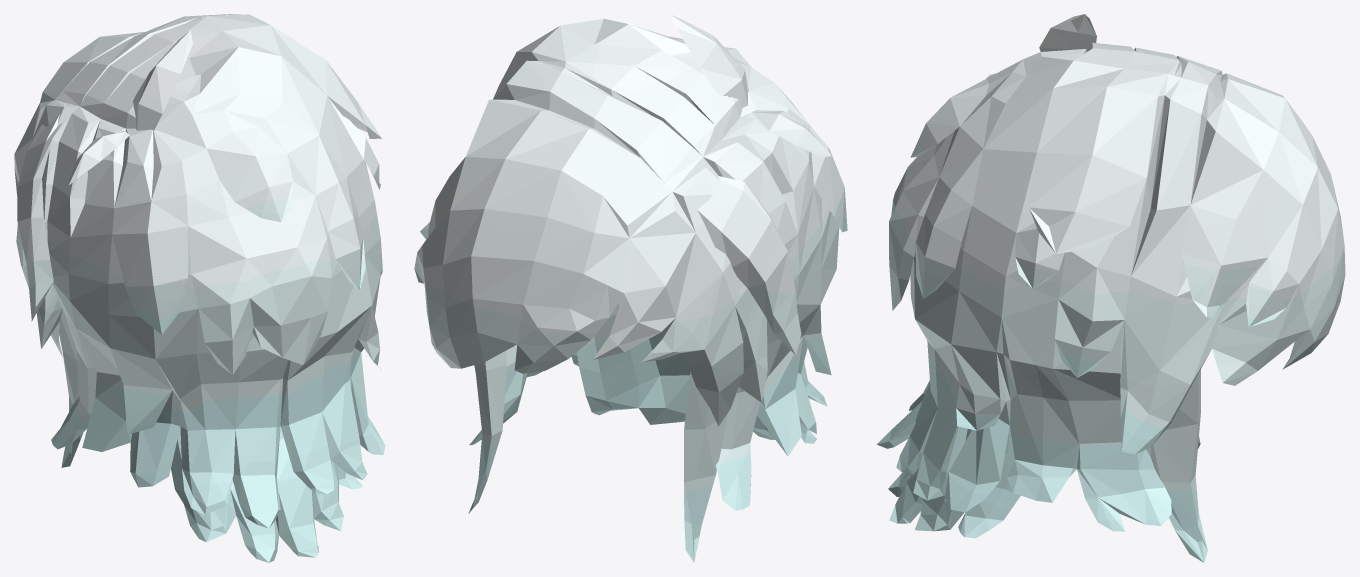
The model's file is CharSkyKid_Hair_AP18MediumBob.glb.
3 renders of one model, left to right at view 1: azimuth 30°, elevation 25°; view 2: azimuth 150°, elevation 25°; view 3: azimuth 270°, elevation 25°, orthographic. The views are drawn at different scales.
Visible parts, largest first — view 1: CharSkyKid_Hair_AP18MediumBob; view 2: CharSkyKid_Hair_AP18MediumBob; view 3: CharSkyKid_Hair_AP18MediumBob.
Part boxes in pixels (x1,y1,x2,y2): CharSkyKid_Hair_AP18MediumBob: (14, 14, 385, 562); CharSkyKid_Hair_AP18MediumBob: (414, 14, 847, 562); CharSkyKid_Hair_AP18MediumBob: (877, 14, 1345, 562).
Size of the model in its own units: 3.21 by 4.46 by 3.87.
1 material, 1 textured.
